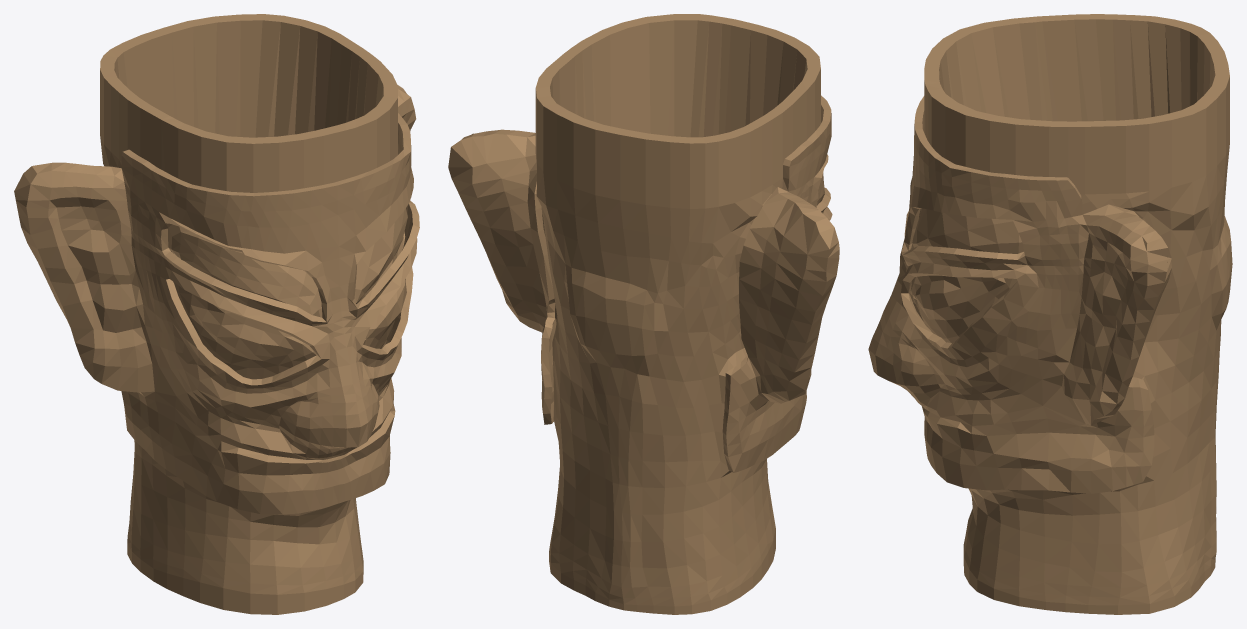
Rendered from mask-face.glb.
3 views of the same model, side by side, from view 1: azimuth 30°, elevation 25°; view 2: azimuth 150°, elevation 25°; view 3: azimuth 270°, elevation 25° (orthographic). The views are drawn at different scales.
Visible parts, largest first — view 1: z05.stl; view 2: z05.stl; view 3: z05.stl.
Boxes of the visible parts, x1,y1,x2,y2 form: z05.stl: [14, 14, 419, 614]; z05.stl: [448, 14, 839, 614]; z05.stl: [868, 14, 1232, 614].
Size of the model in its own units: 5800 by 6980 by 4653.
